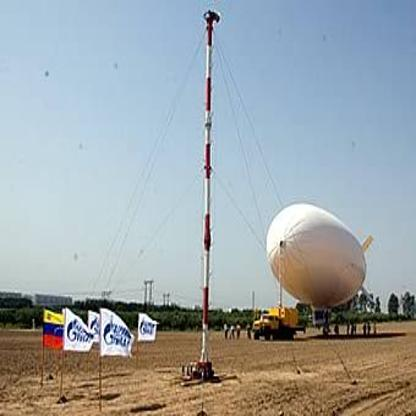Airship: (264, 199, 376, 314)
